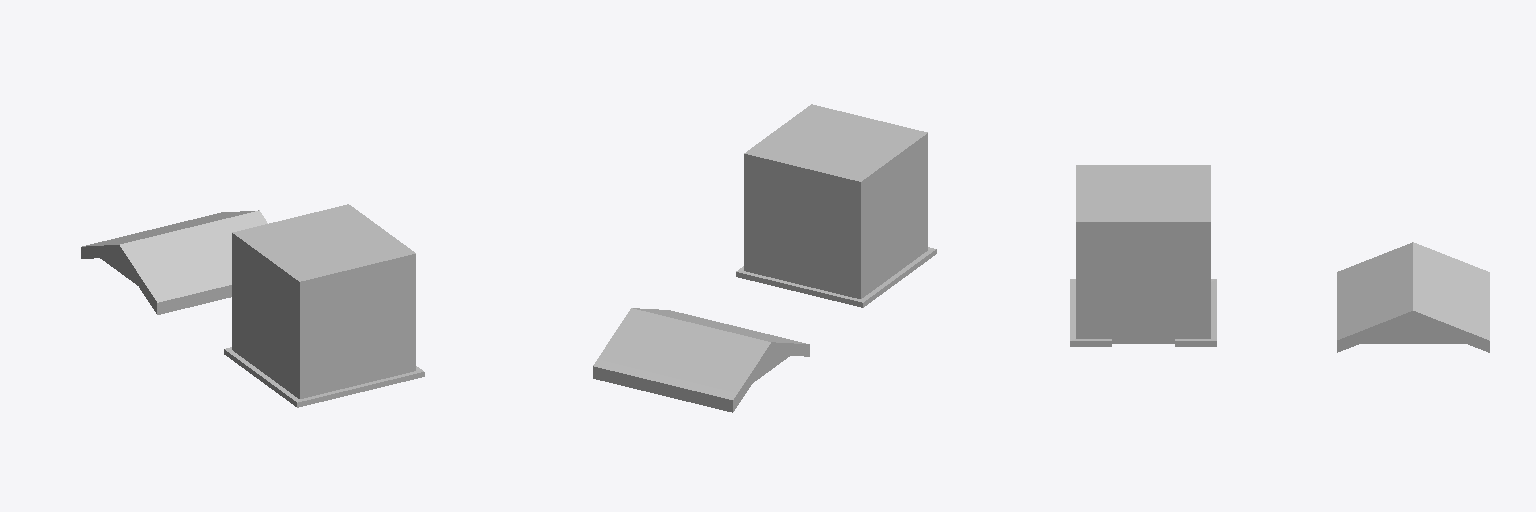
File: shed1.obj
3 renders of one model, left to right at view 1: azimuth 30°, elevation 25°; view 2: azimuth 150°, elevation 25°; view 3: azimuth 270°, elevation 25°, orthographic.
Visible parts, largest first — view 1: Shed_Cube.002, Reference_Cube_Cube, Cube_Cube.004; view 2: Shed_Cube.002, Cube_Cube.004, Reference_Cube_Cube; view 3: Cube_Cube.004, Shed_Cube.002, Reference_Cube_Cube.
Boxes of the visible parts, <box> form: Shed_Cube.002: <box>224,205,424,407</box>; Reference_Cube_Cube: <box>232,204,415,398</box>; Cube_Cube.004: <box>81,210,267,314</box>; Shed_Cube.002: <box>736,104,936,307</box>; Cube_Cube.004: <box>593,308,809,412</box>; Reference_Cube_Cube: <box>744,105,927,291</box>; Cube_Cube.004: <box>1337,242,1489,352</box>; Shed_Cube.002: <box>1070,165,1216,346</box>; Reference_Cube_Cube: <box>1076,165,1210,343</box>.
Size of the model in its own units: 1.2 by 1.03 by 3.11.